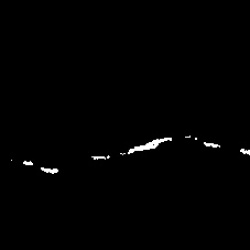crack: (91, 136, 249, 161), (23, 161, 58, 172)
